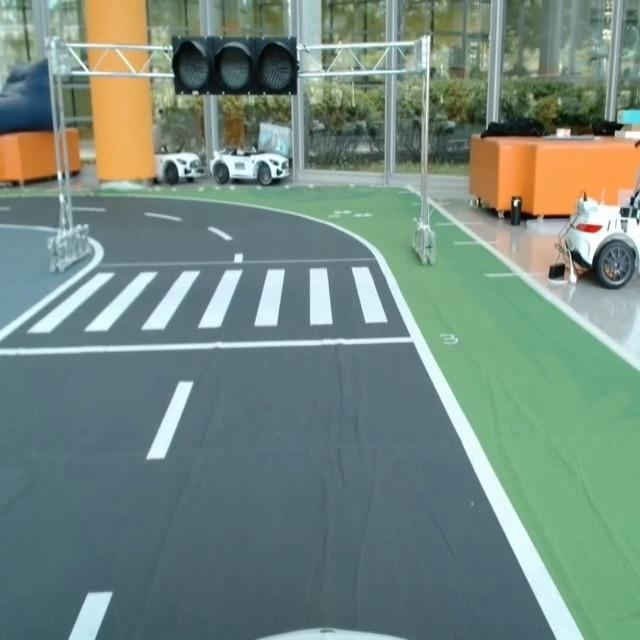traffic-light: (168, 31, 302, 100)
